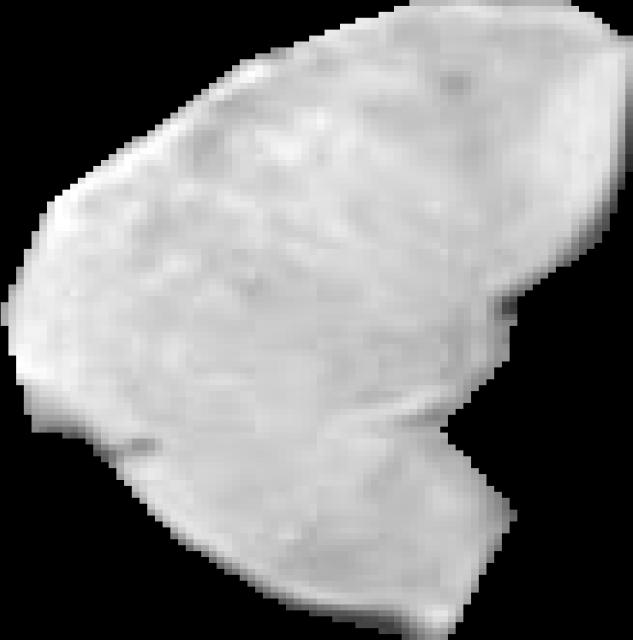tumor_moderate_chance: (1, 0, 633, 640)
